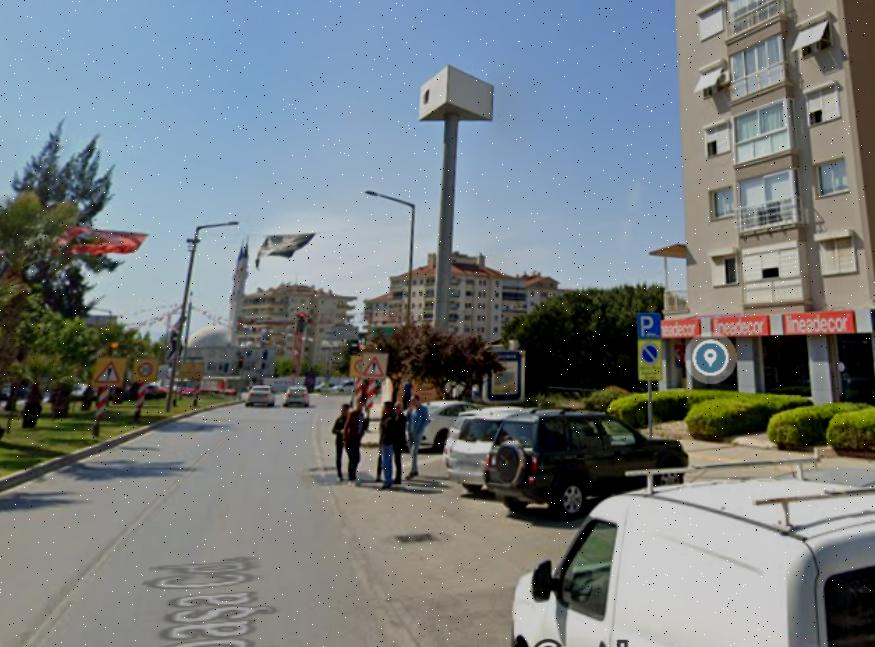park: (639, 313, 662, 339)
